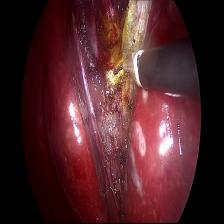Hook: (111, 48, 148, 96)
